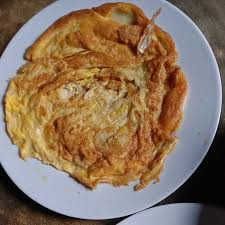Telur dadar: (5, 2, 189, 191)
